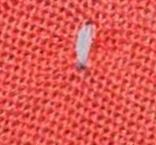hole: (72, 19, 99, 73)
